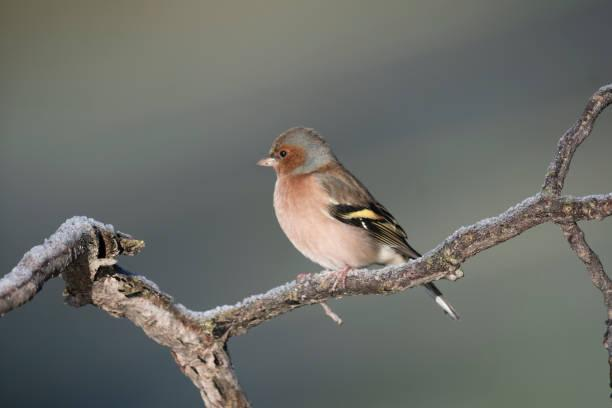bird: (257, 127, 419, 276), (424, 282, 456, 317)
